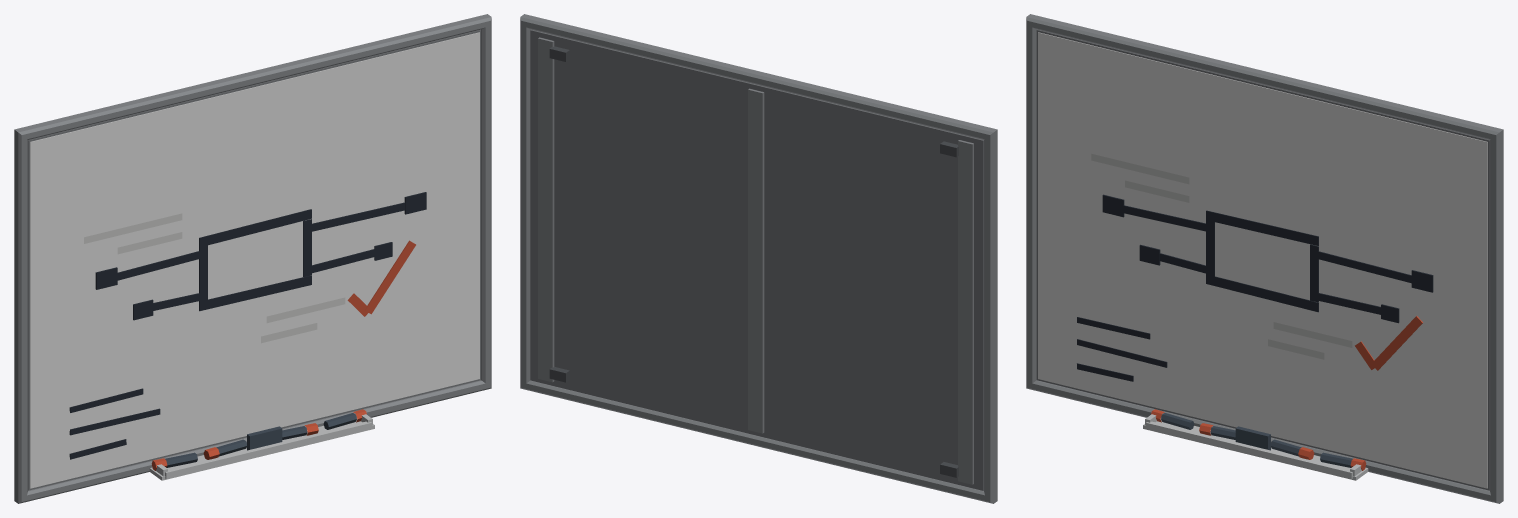
File: home_whiteboard.glb
3 views of the same model, side by side, from view 1: azimuth 30°, elevation 25°; view 2: azimuth 150°, elevation 25°; view 3: azimuth 330°, elevation 25° (orthographic).
Visible parts, largest first — view 1: whiteboard, markers-mesh; view 2: whiteboard; view 3: whiteboard, markers-mesh.
Boxes of the visible parts, left/top/right/bottom form: whiteboard: left=14, top=14, right=491, bottom=503; markers-mesh: left=151, top=409, right=366, bottom=470; whiteboard: left=520, top=14, right=997, bottom=503; whiteboard: left=1026, top=14, right=1503, bottom=503; markers-mesh: left=1151, top=409, right=1366, bottom=470.
Size of the model in its own units: 1.6 by 1.2 by 0.1293.
